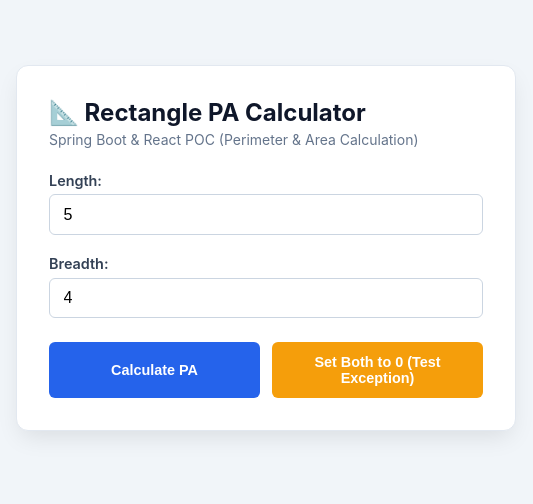
it: App Component Integration Tests › Integration Test: Renders error banner when backend returns HTTP 400 ZeroDimensionsException
Click the button "Set Both to 0 (Test Exception)". click: (378, 370)
box: [272,342,483,398]
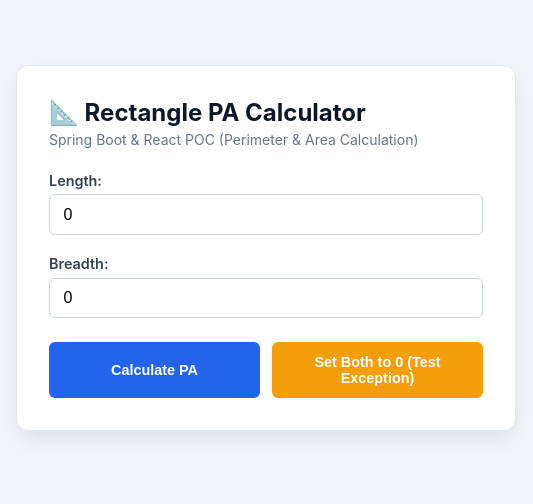
Click the button "Calculate PA". click: (154, 370)
box: [49,342,260,398]
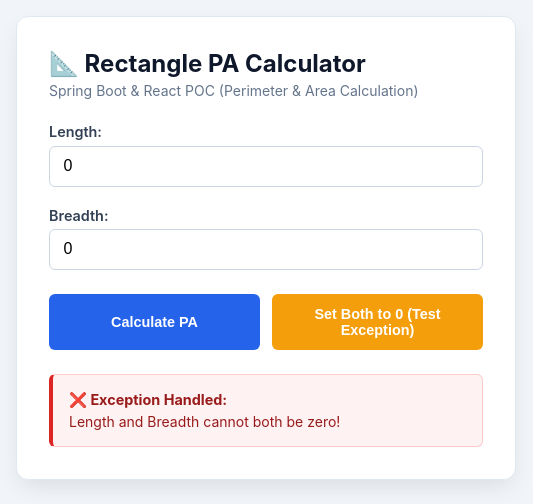
Now the text "❌ Exception Handled:" is shown, box [69,391,227,408]
Now the text "Length and Breadth cannot both be zero!" is shown, box [69,413,340,430]
